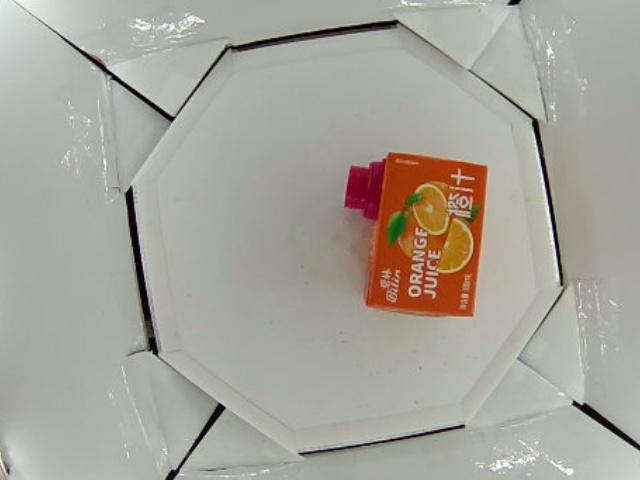Bottle: (343, 154, 489, 318)
